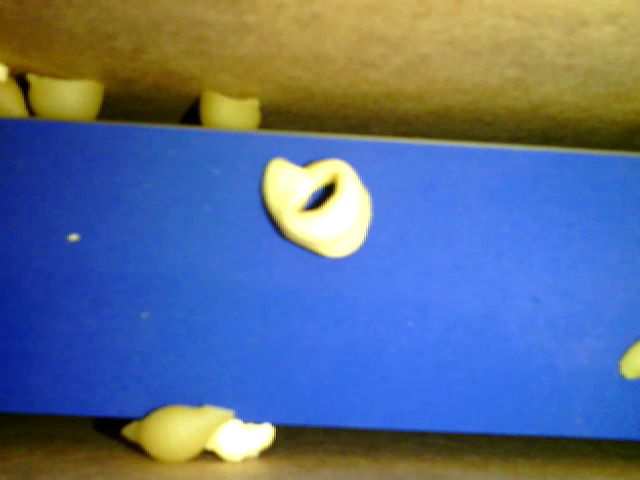shell: (121, 403, 236, 462), (24, 71, 106, 121), (195, 90, 264, 131)
tortellini: (262, 156, 373, 260)
